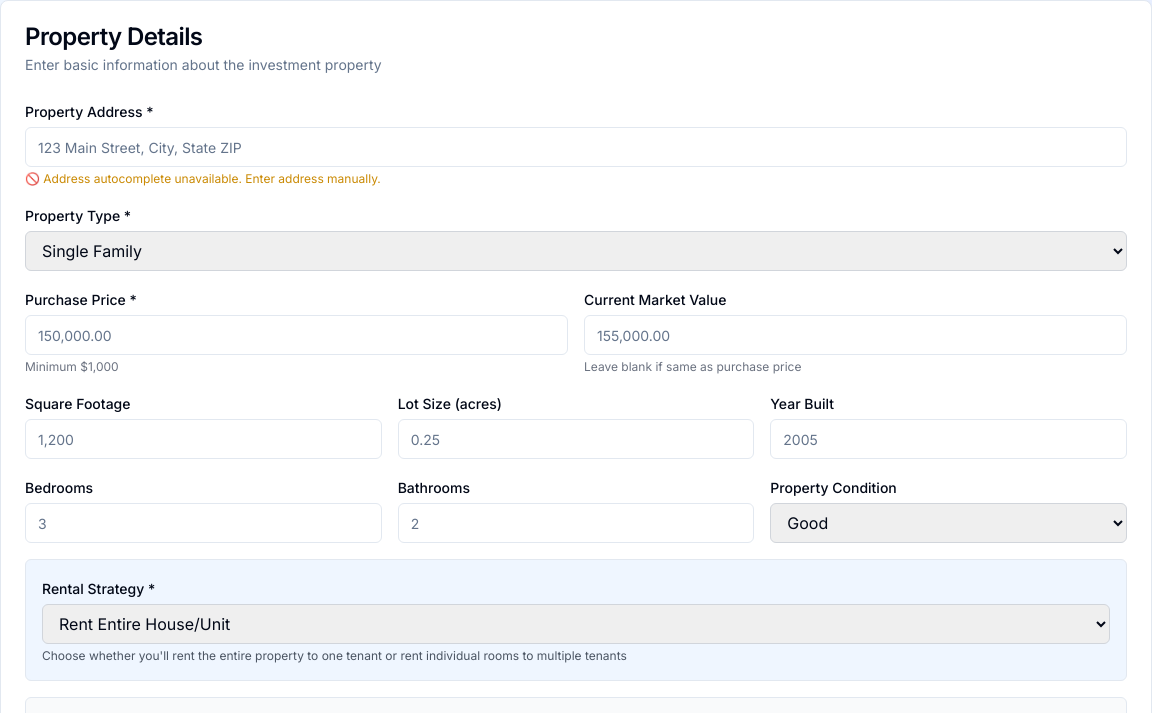
PropertyDetailsForm › fetches and displays property image on address blur
Step 1. Type "123 Main St, City, State" into the field labelled "Property Address *" → (576, 147), box top-left (25, 127), bottom-right (1127, 167)
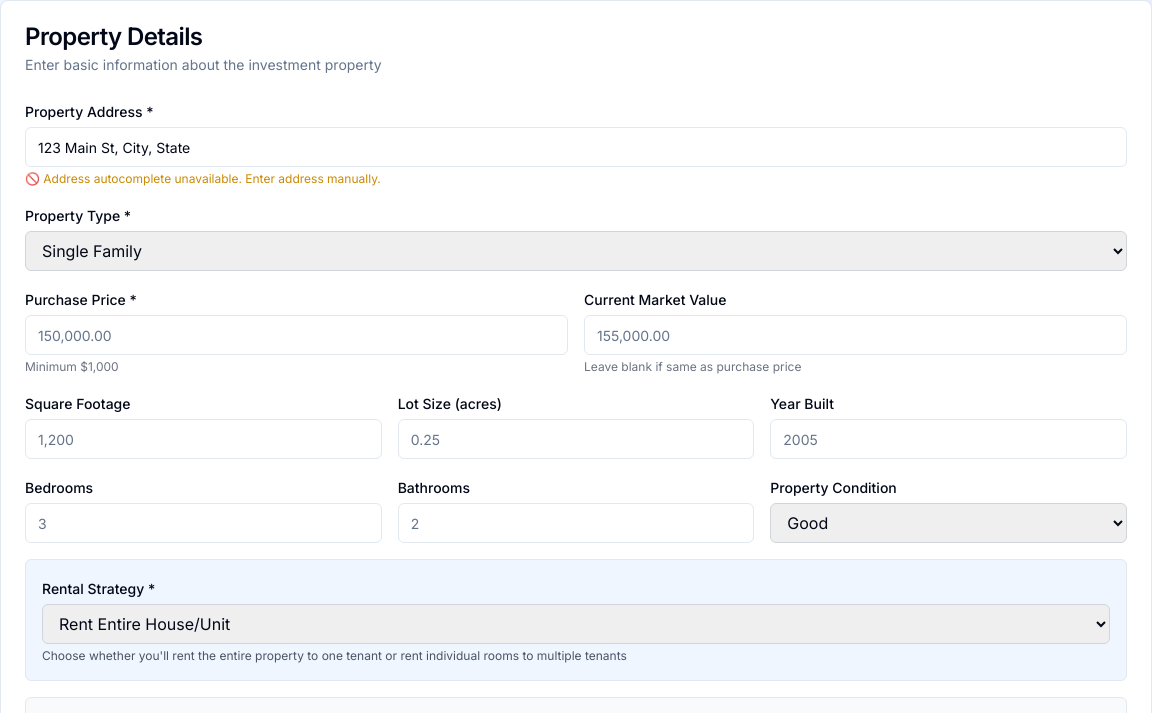
Step 2. Leave the field labelled "Property Address *", box top-left (25, 127), bottom-right (1127, 167)
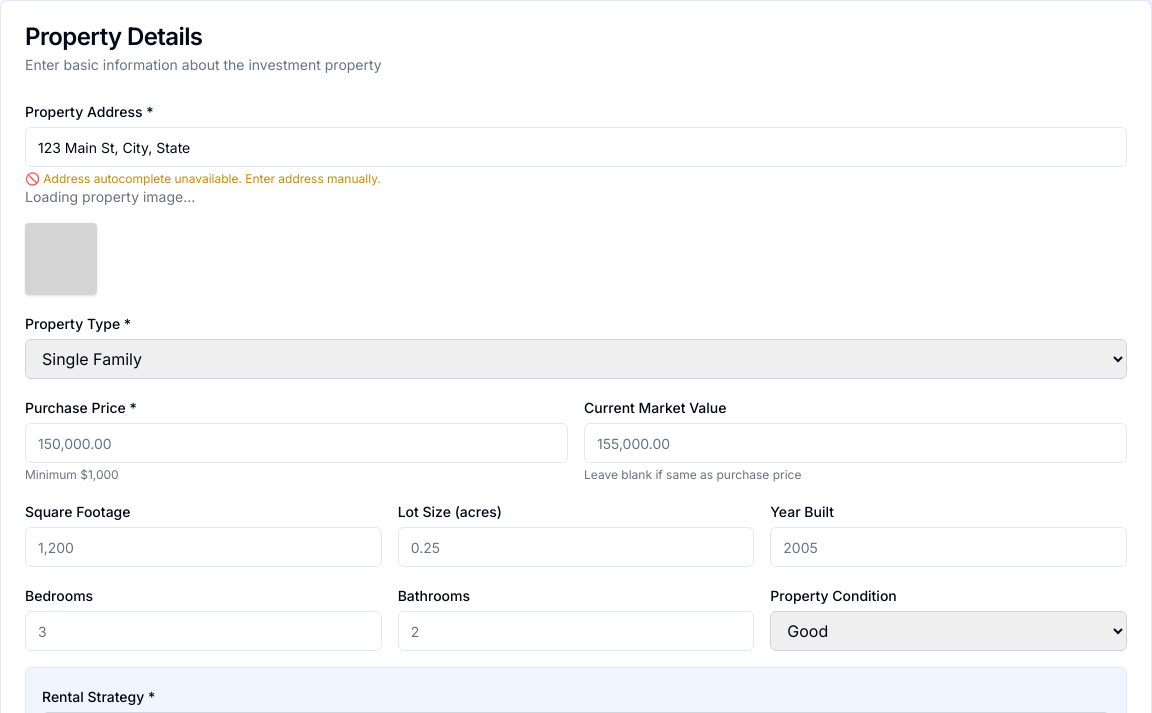
Result: the text "Loading property image..." is shown at top-left (25, 188), bottom-right (195, 205)
